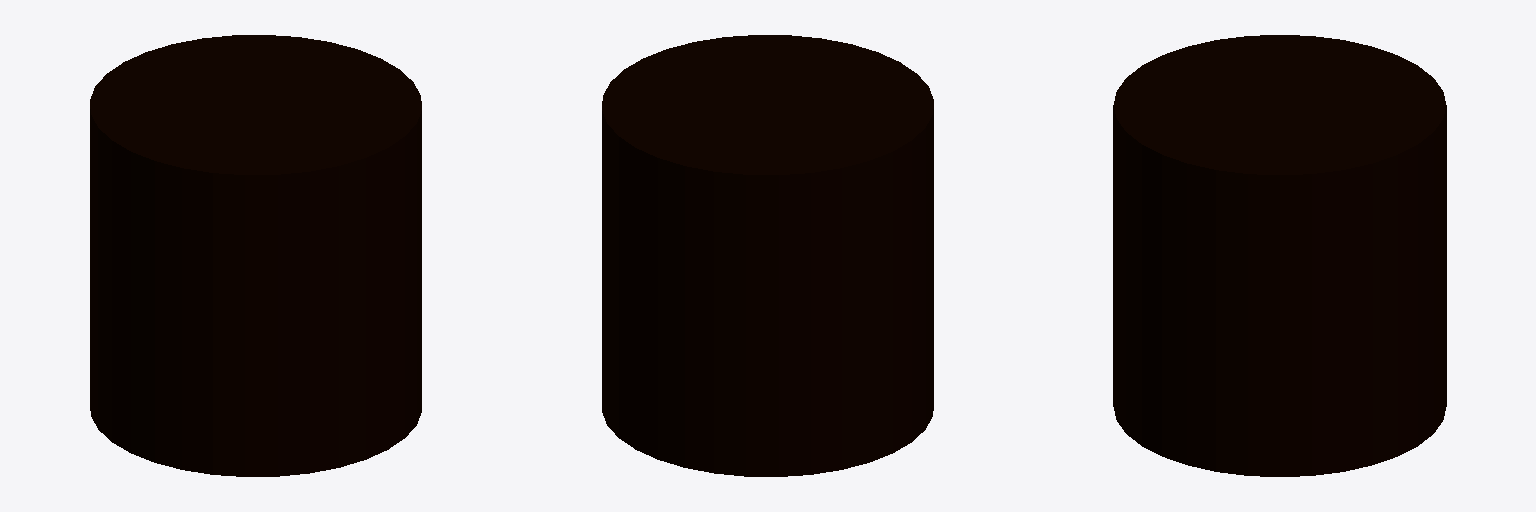
The model's file is cylinder_full_radius_type1.obj.
3 views of the same model, side by side, from view 1: azimuth 30°, elevation 25°; view 2: azimuth 150°, elevation 25°; view 3: azimuth 270°, elevation 25° (orthographic).
Visible parts, largest first — view 1: cylinder_full_radius; view 2: cylinder_full_radius; view 3: cylinder_full_radius.
Part boxes in pixels (left/top/right/bottom): cylinder_full_radius: left=90, top=35, right=421, bottom=476; cylinder_full_radius: left=602, top=35, right=933, bottom=476; cylinder_full_radius: left=1113, top=35, right=1446, bottom=476.
Size of the model in its own units: 2 by 2 by 2.